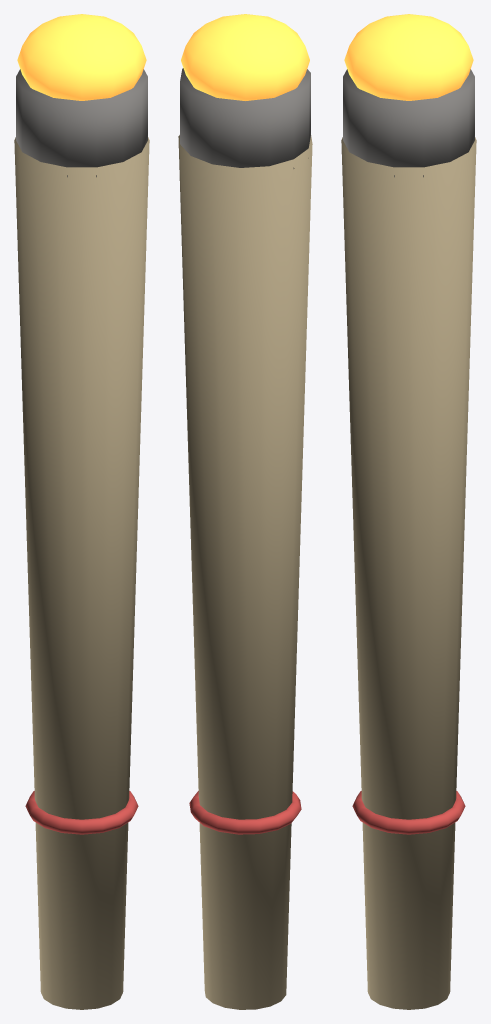
File: kerala_beedi.glb
The picture shows the model from 3 angles, left to right: view 1: azimuth 90°, elevation 25°; view 2: azimuth 150°, elevation 25°; view 3: azimuth 270°, elevation 25°; orthographic projection.
Parts seen in each view (by area): view 1: Beedi_LeafBody, Beedi_AshTip, Beedi_EmberGlow, Beedi_ThreadTie; view 2: Beedi_LeafBody, Beedi_AshTip, Beedi_EmberGlow, Beedi_ThreadTie; view 3: Beedi_LeafBody, Beedi_AshTip, Beedi_EmberGlow, Beedi_ThreadTie.
Boxes of the visible parts, bbox=[...] form: Beedi_LeafBody: bbox=[14, 137, 149, 1009]; Beedi_AshTip: bbox=[16, 69, 147, 177]; Beedi_EmberGlow: bbox=[17, 14, 146, 100]; Beedi_ThreadTie: bbox=[25, 791, 138, 834]; Beedi_LeafBody: bbox=[178, 135, 312, 1009]; Beedi_AshTip: bbox=[180, 68, 310, 168]; Beedi_EmberGlow: bbox=[181, 14, 309, 100]; Beedi_ThreadTie: bbox=[189, 791, 301, 834]; Beedi_LeafBody: bbox=[341, 137, 476, 1009]; Beedi_AshTip: bbox=[343, 69, 474, 177]; Beedi_EmberGlow: bbox=[344, 14, 473, 100]; Beedi_ThreadTie: bbox=[352, 791, 465, 834].
Size of the model in its own units: 0.0092 by 0.0729 by 0.0092.
